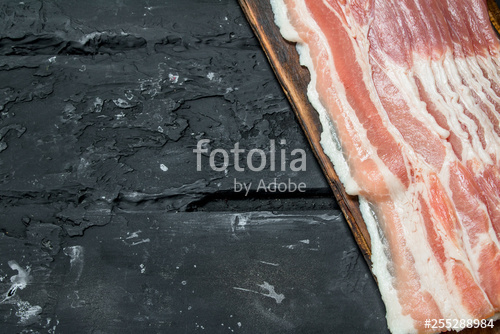bacon: (303, 3, 500, 303)
